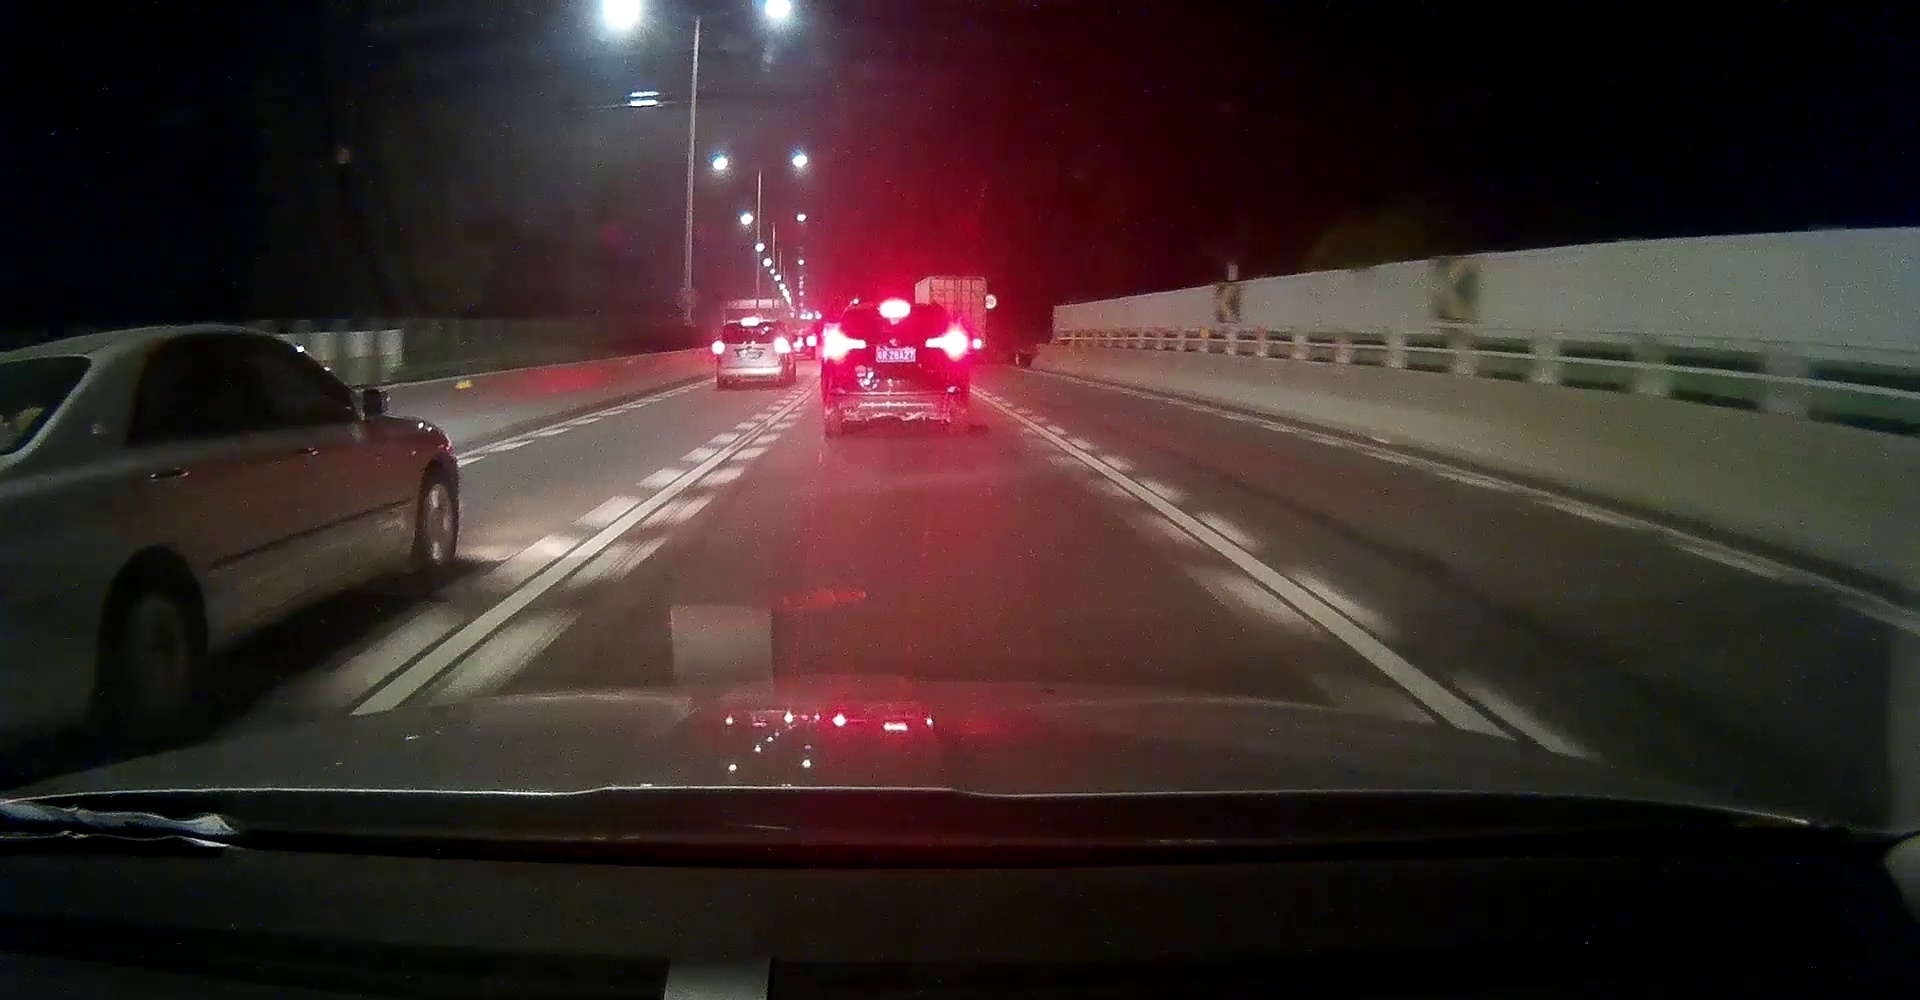L_light: (825, 327, 866, 360), (712, 340, 725, 354)
R_light: (924, 329, 968, 357), (775, 338, 787, 353)
T_light: (880, 305, 910, 313), (742, 319, 758, 325)
night-brake: (820, 298, 970, 437), (711, 317, 787, 390)
